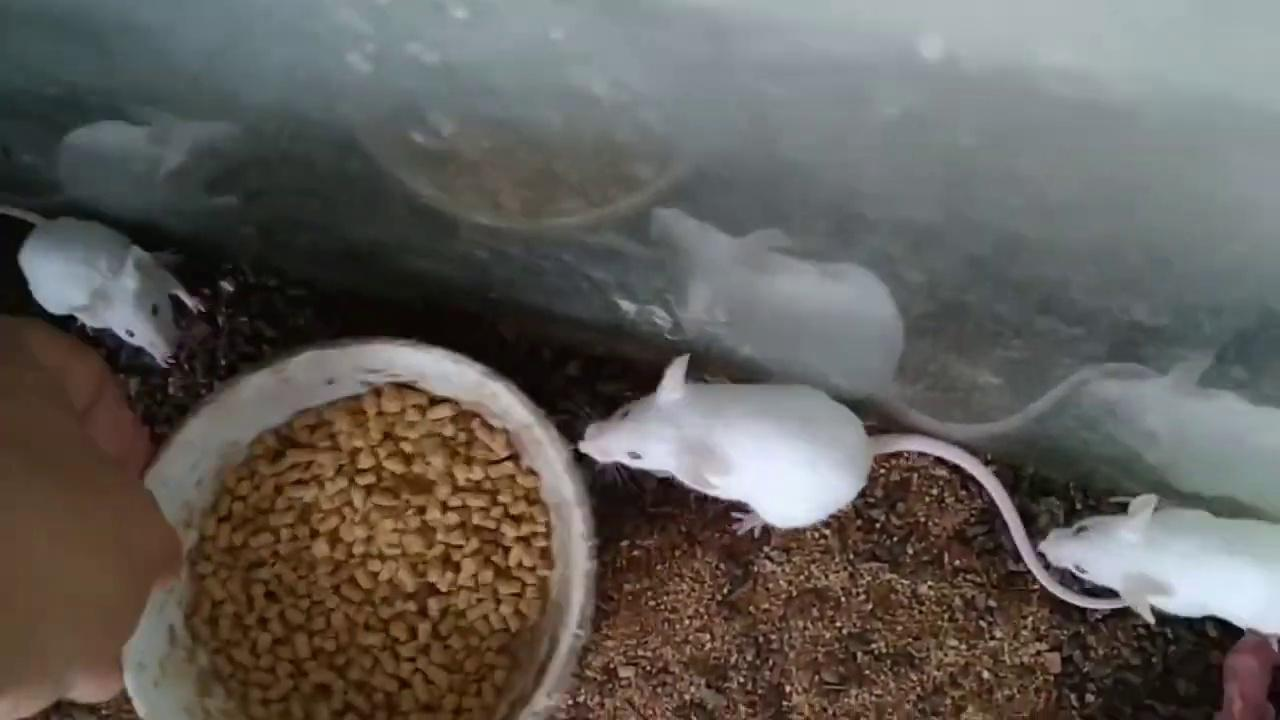rat: (580, 353, 1129, 609), (0, 206, 207, 371), (1038, 494, 1280, 635)
